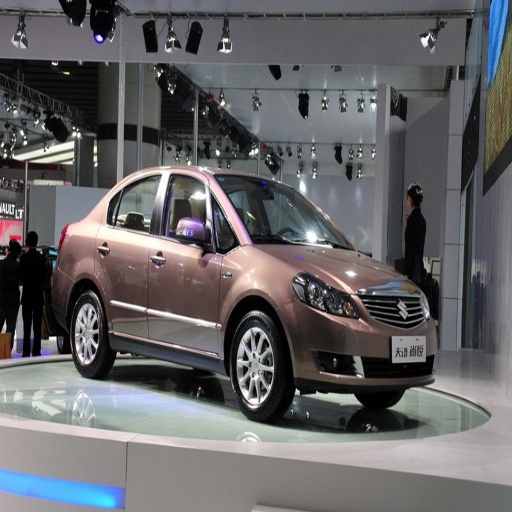back_right_door: (98, 172, 162, 340)
front_bumper: (283, 291, 439, 390)
front_right_door: (149, 173, 218, 354)
front_right_light: (293, 273, 359, 316)
